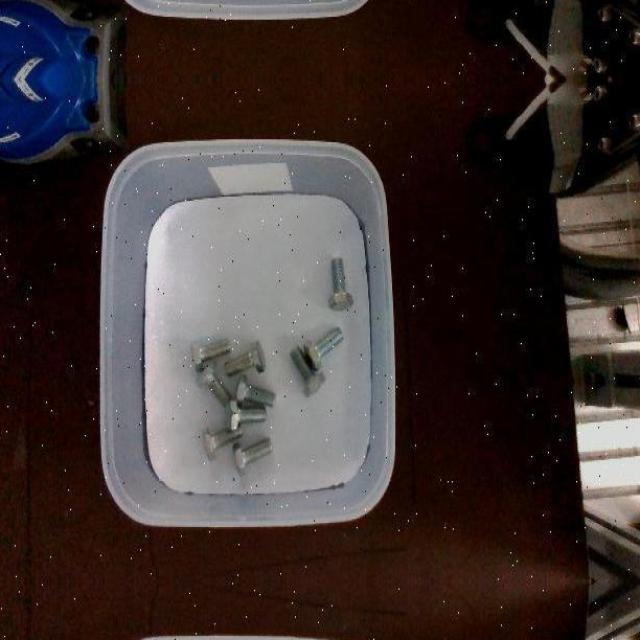screw: (289, 345, 326, 397), (196, 359, 233, 409), (303, 325, 343, 370), (224, 339, 266, 376), (233, 438, 273, 474), (328, 256, 354, 309), (236, 374, 275, 408), (191, 338, 230, 371), (226, 398, 267, 429)
